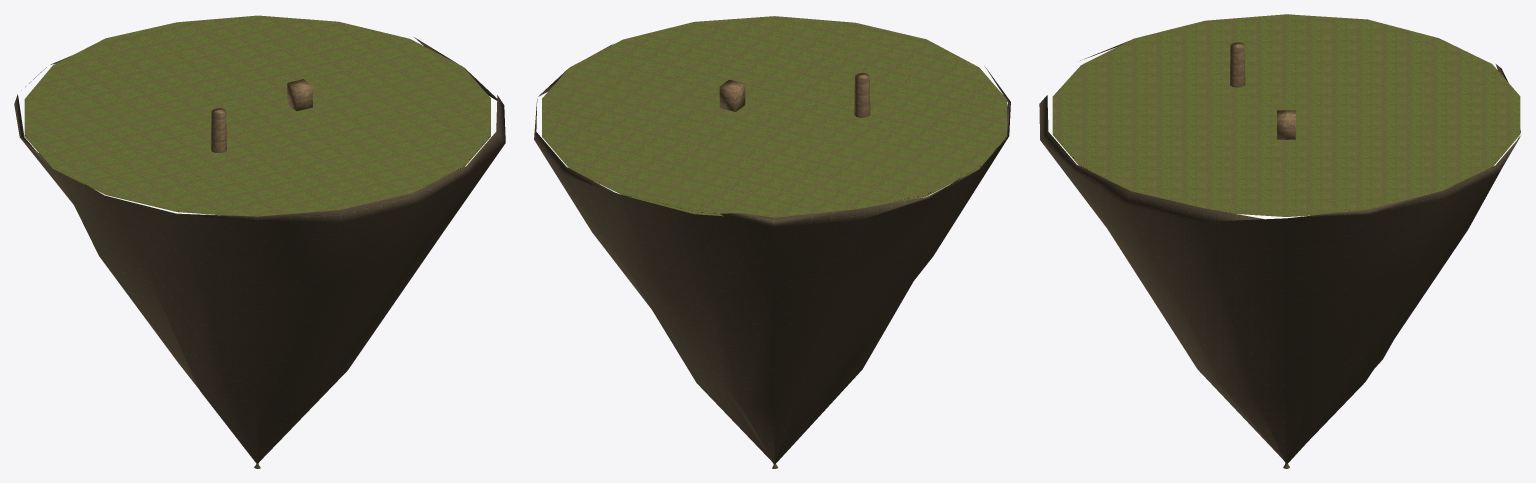
The model's file is sky_island_1.glb.
The picture shows the model from 3 angles, left to right: view 1: azimuth 30°, elevation 25°; view 2: azimuth 150°, elevation 25°; view 3: azimuth 270°, elevation 25°; orthographic projection.
Parts seen in each view (by area): view 1: sky_island_1; view 2: sky_island_1; view 3: sky_island_1.
Boxes of the visible parts, x1,y1,x2,y2 form: sky_island_1: (14,15,505,468); sky_island_1: (534,16,1010,468); sky_island_1: (1039,14,1520,468).
Bounding box in the file's own units: 76.84 × 69.16 × 77.21.
3 materials, 3 textured.
